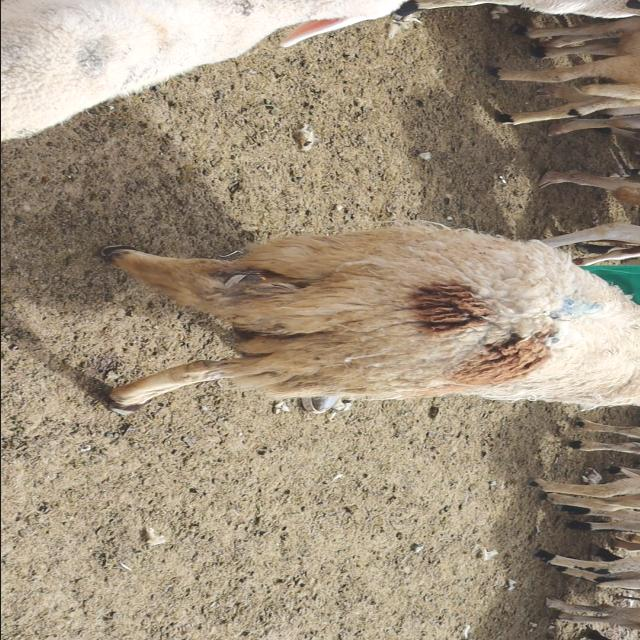Score_1: (101, 221, 640, 414)
